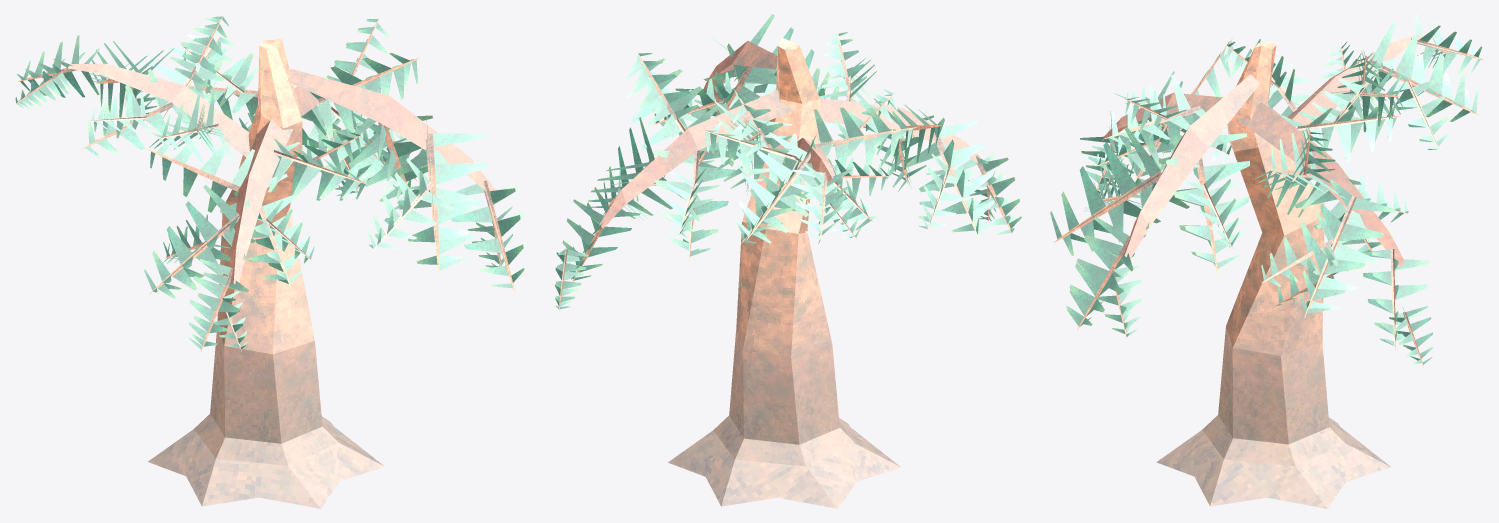
The model's file is tree_05.glb.
3 views of the same model, side by side, from view 1: azimuth 30°, elevation 25°; view 2: azimuth 150°, elevation 25°; view 3: azimuth 270°, elevation 25° (orthographic).
Parts seen in each view (by area): view 1: TREE_05-no-col; view 2: TREE_05-no-col; view 3: TREE_05-no-col.
Part boxes in pixels (x1=…): TREE_05-no-col: x1=14, y1=14, x2=526, y2=508; TREE_05-no-col: x1=555, y1=14, x2=1021, y2=508; TREE_05-no-col: x1=1050, y1=14, x2=1483, y2=508.
Bounding box in the file's own units: 5.47 × 6.47 × 6.02.
